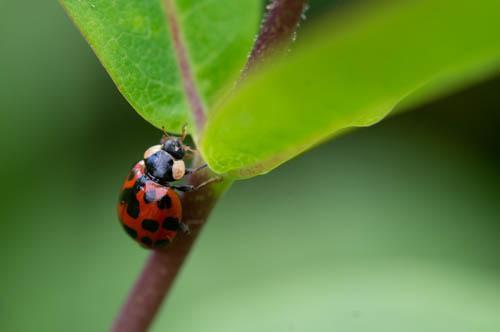ladybug: (116, 124, 225, 251)
